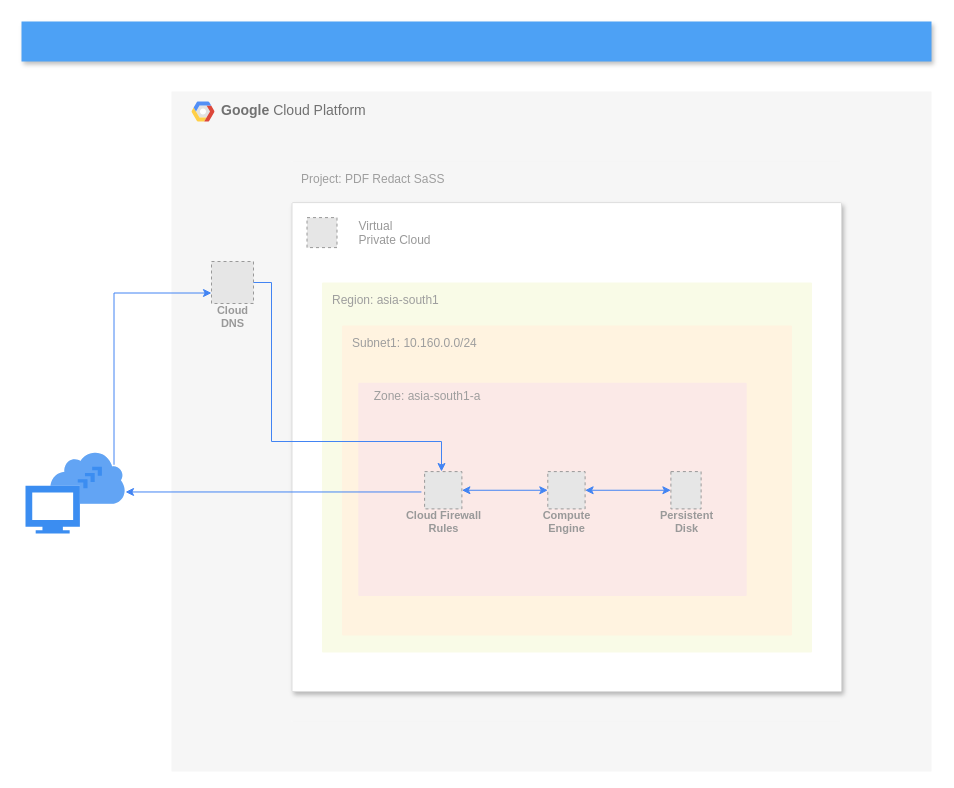
The diagram is 954 pixels wide and 788 high, and some of its shapes have lost their labels. Grey dashed boxes stand in for pictures. The centre of each missing label's shape, as x and y in pixels:
Architecture: PDF Redact SaSS: [477,42]
Internet: [75,491]
